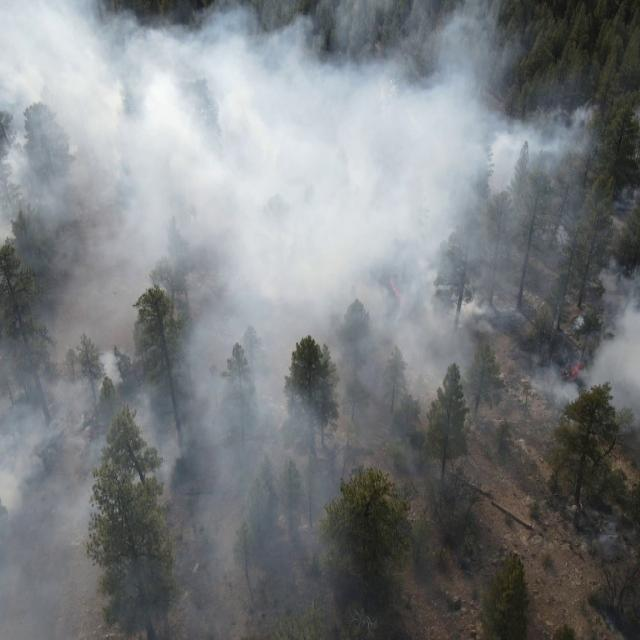fire: (547, 349, 595, 389), (381, 268, 416, 304)
smoke: (1, 0, 534, 398), (0, 397, 473, 640), (534, 266, 640, 452), (534, 76, 606, 295), (566, 496, 640, 566), (606, 183, 640, 227), (632, 100, 640, 158)
